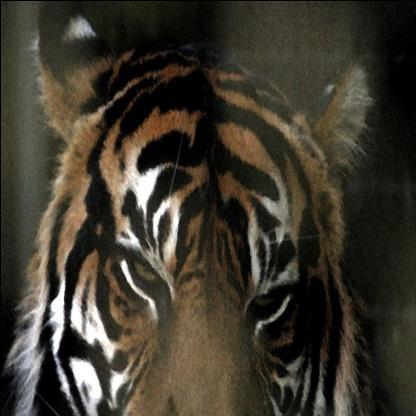tiger: (29, 15, 404, 415)
